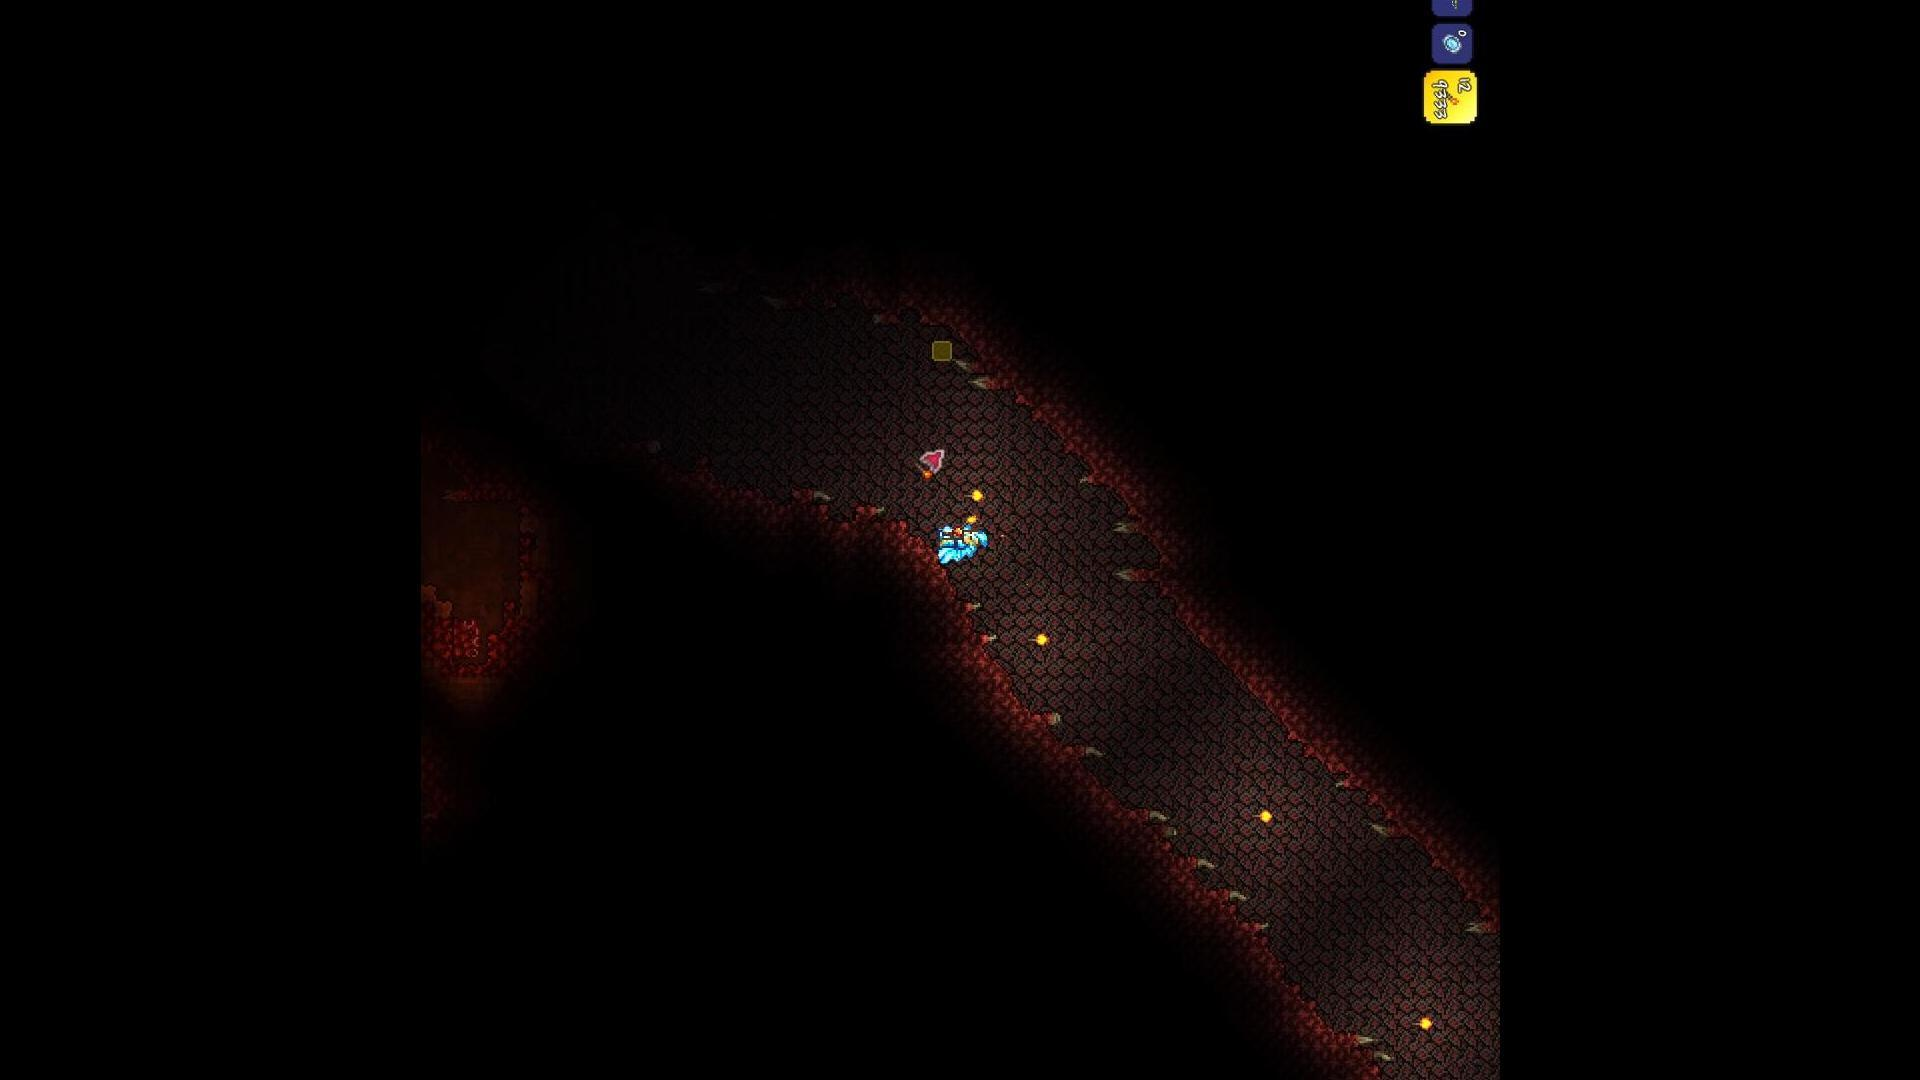altar: (450, 612, 485, 662)
